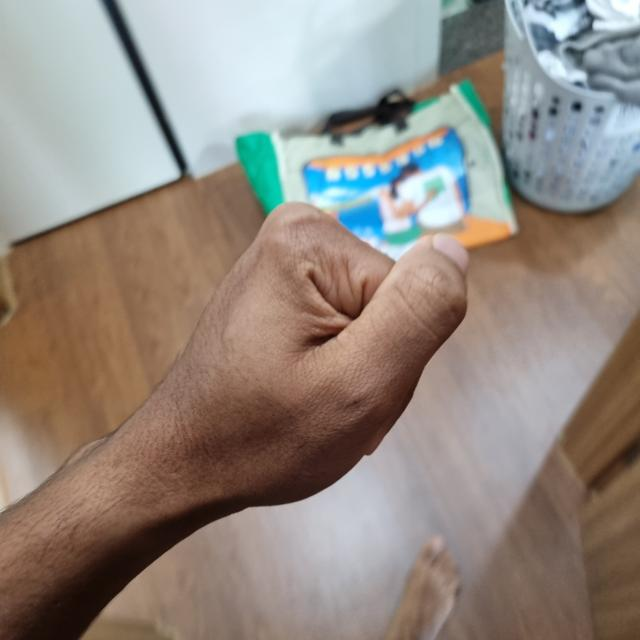Rock: (134, 206, 465, 507)
